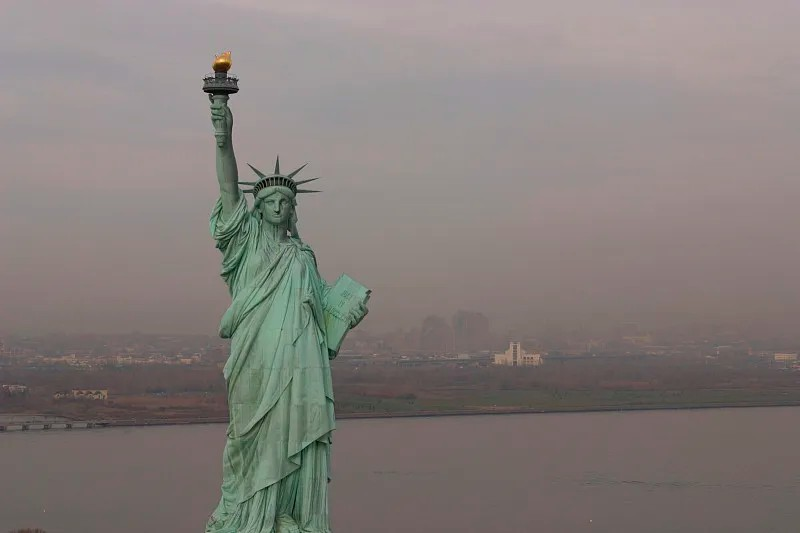SL: (199, 47, 372, 533)
